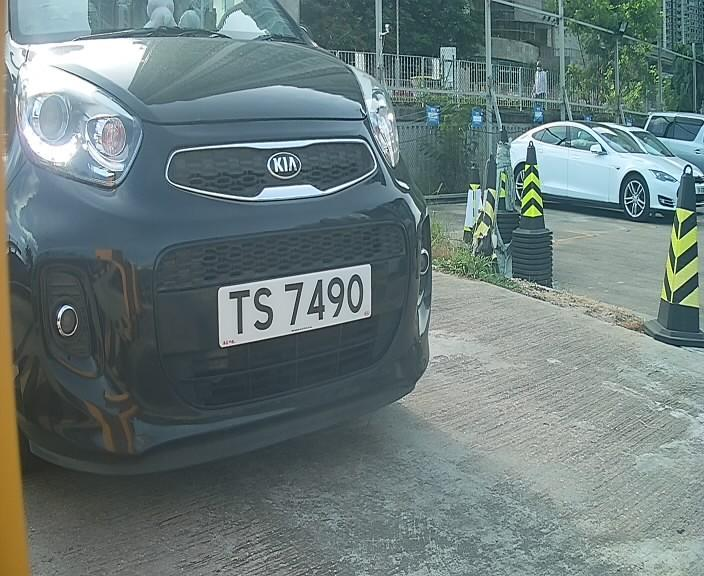privatecar: (7, 8, 459, 463)
